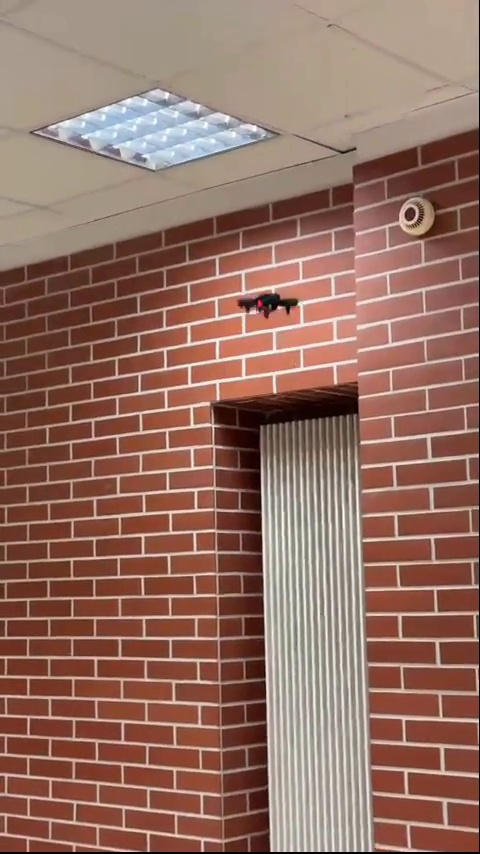drone: (239, 293, 300, 315)
